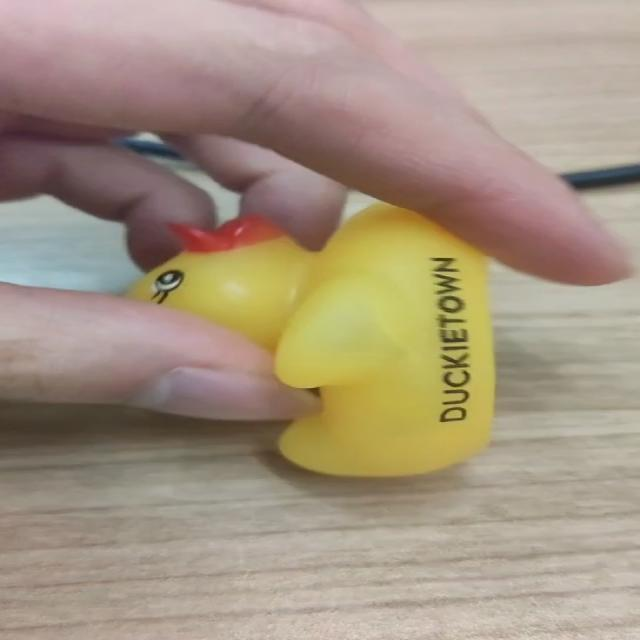rubber-duck: (127, 202, 493, 474)
